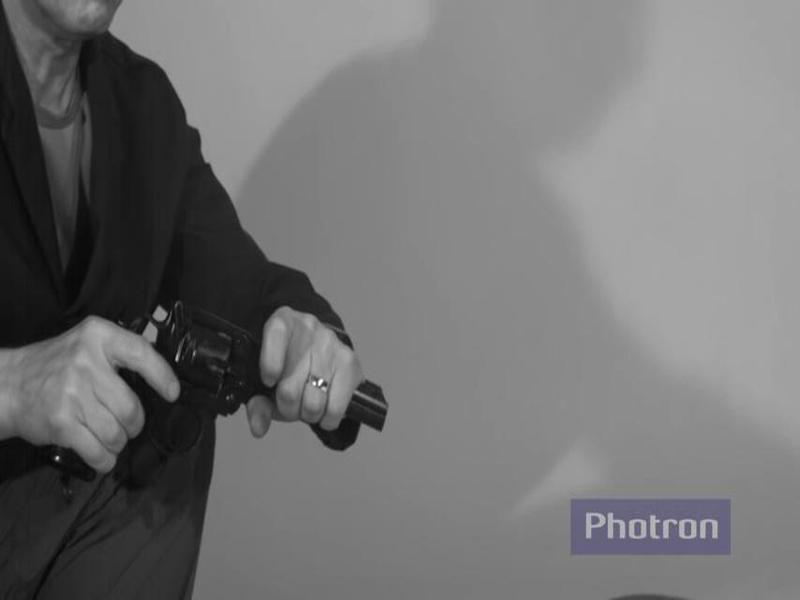Revolver: (37, 285, 408, 521)
